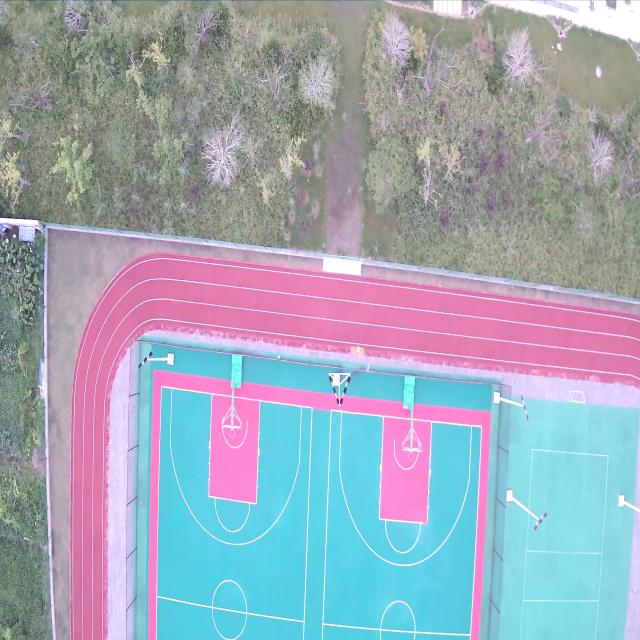UAV: (362, 360, 374, 376)
